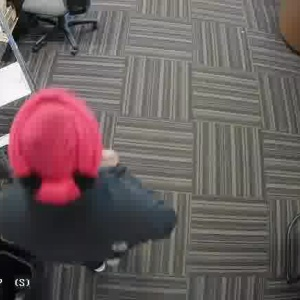person: (1, 95, 163, 264)
